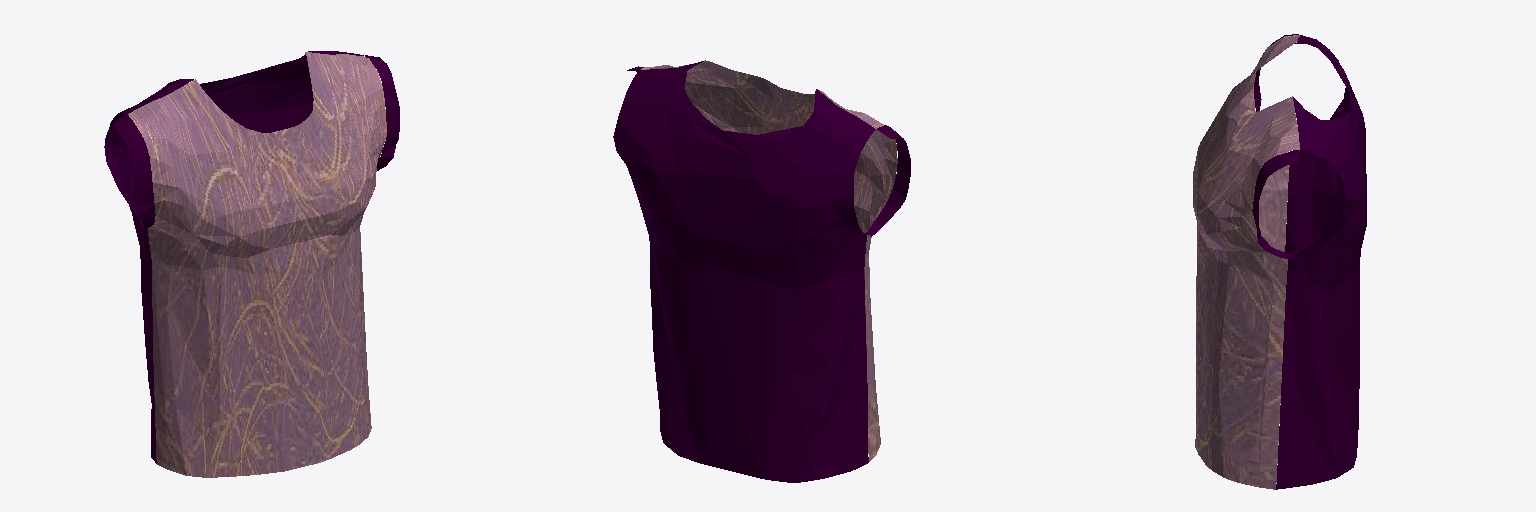
3 views of the same model, side by side, from view 1: azimuth 30°, elevation 25°; view 2: azimuth 150°, elevation 25°; view 3: azimuth 270°, elevation 25° (orthographic).
Parts seen in each view (by area): view 1: T_shirt; view 2: T_shirt; view 3: T_shirt.
Part boxes in pixels (bbox=[...]): T_shirt: bbox=[104, 51, 399, 477]; T_shirt: bbox=[613, 60, 910, 482]; T_shirt: bbox=[1193, 34, 1366, 489].
Size of the model in its own units: 0.2935 by 0.3892 by 0.1639.
2 materials, 1 textured.